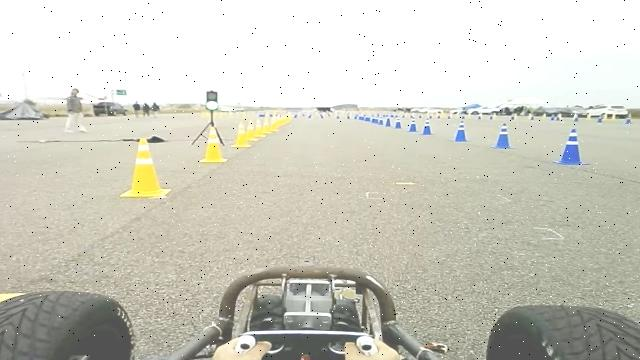blue cone: (552, 128, 590, 166), (491, 122, 516, 149), (452, 120, 471, 142), (420, 118, 434, 135), (407, 118, 418, 132), (377, 112, 386, 126), (394, 118, 403, 129), (385, 115, 391, 127)
yellow cone: (120, 137, 172, 198), (199, 126, 228, 163), (232, 121, 252, 148), (246, 120, 257, 141), (258, 118, 272, 134), (254, 120, 266, 138), (268, 117, 280, 132)
